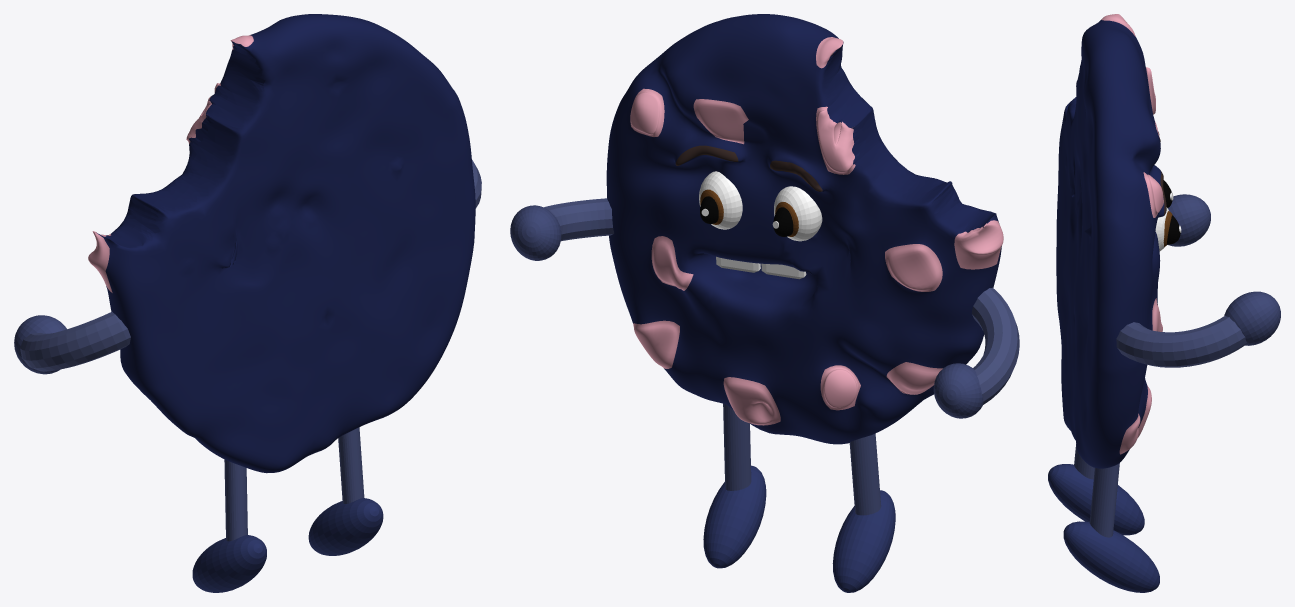
Rendered from Chunk.glb.
The picture shows the model from 3 angles, left to right: view 1: azimuth 30°, elevation 25°; view 2: azimuth 150°, elevation 25°; view 3: azimuth 270°, elevation 25°; orthographic projection. The views are drawn at different scales.
Parts seen in each view (by area): view 1: cookie1003, Torus003, Sphere010, Sphere007, Cylinder001, Cylinder002, cookie1003_1, Sphere009; view 2: cookie1003, cookie1003_1, Sphere010, Sphere007, Torus003, Sphere008, Sphere009, Torus004, Cylinder001, Cylinder002, Sphere003, Sphere001 (+1 smaller); view 3: cookie1003, Torus004, Sphere010, Sphere007, Sphere008, cookie1003_1, Cylinder002, Sphere009, Cylinder001.
Part boxes in pixels (x1=…): cookie1003: x1=96, y1=14, x2=475, y2=473; Torus003: x1=20, y1=312, x2=130, y2=371; Sphere010: x1=308, y1=498, x2=383, y2=555; Sphere007: x1=192, y1=535, x2=266, y2=592; Cylinder001: x1=224, y1=459, x2=247, y2=541; Cylinder002: x1=338, y1=427, x2=364, y2=503; cookie1003_1: x1=88, y1=35, x2=253, y2=292; Sphere009: x1=14, y1=315, x2=66, y2=374; cookie1003: x1=606, y1=14, x2=1001, y2=444; cookie1003_1: x1=630, y1=37, x2=1003, y2=425; Sphere010: x1=703, y1=465, x2=766, y2=568; Sphere007: x1=832, y1=490, x2=895, y2=592; Torus003: x1=971, y1=287, x2=1019, y2=404; Sphere008: x1=510, y1=205, x2=561, y2=260; Sphere009: x1=933, y1=363, x2=983, y2=418; Torus004: x1=544, y1=198, x2=613, y2=241; Cylinder001: x1=849, y1=433, x2=881, y2=515; Cylinder002: x1=723, y1=403, x2=751, y2=490; Sphere003: x1=774, y1=186, x2=822, y2=241; Sphere001: x1=699, y1=171, x2=742, y2=229; cookie1003: x1=1056, y1=19, x2=1164, y2=468; Torus004: x1=1116, y1=315, x2=1246, y2=367; Sphere010: x1=1063, y1=521, x2=1159, y2=592; Sphere007: x1=1048, y1=464, x2=1144, y2=535; Sphere008: x1=1224, y1=291, x2=1280, y2=345; cookie1003_1: x1=1101, y1=14, x2=1163, y2=454; Cylinder002: x1=1089, y1=463, x2=1119, y2=537; Sphere009: x1=1167, y1=194, x2=1210, y2=246; Cylinder001: x1=1074, y1=444, x2=1094, y2=479.
Bounding box in the file's own units: 4.12 × 4.74 × 1.87.
